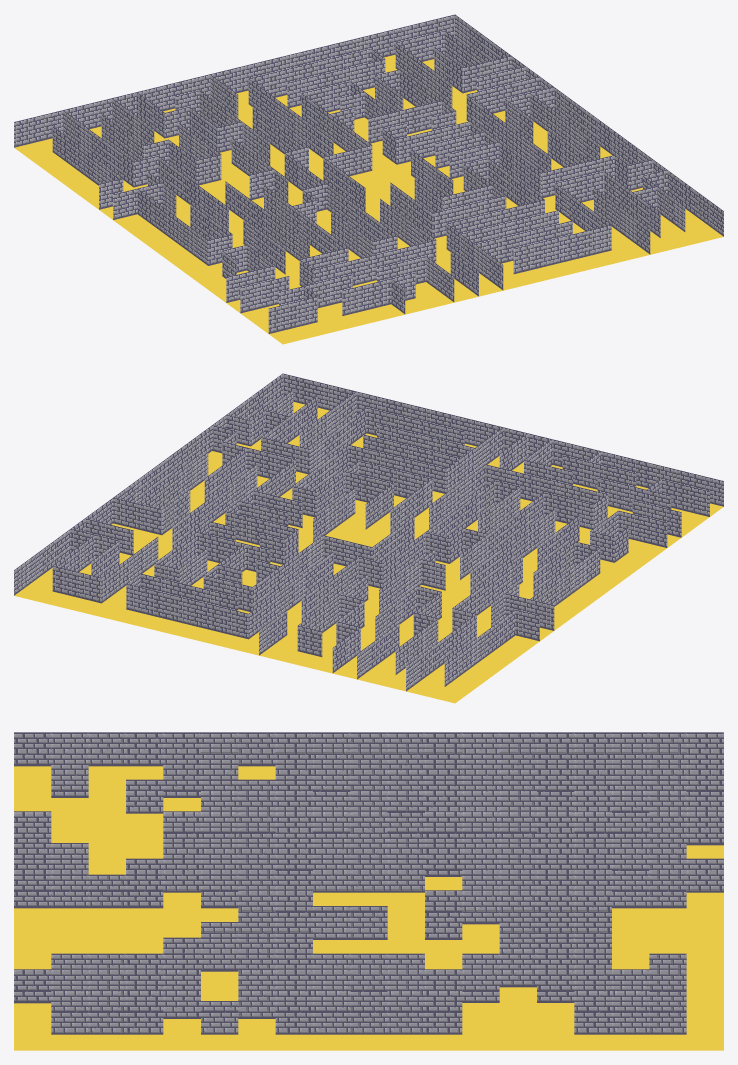
The model's file is Maze.gltf.
The picture shows the model from 3 angles, top to bottom: view 1: azimuth 30°, elevation 25°; view 2: azimuth 150°, elevation 25°; view 3: azimuth 270°, elevation 25°; orthographic projection. The views are drawn at different scales.
Size of the model in its own units: 36 by 2 by 38.
Materials: 1 (1 with a texture image).
